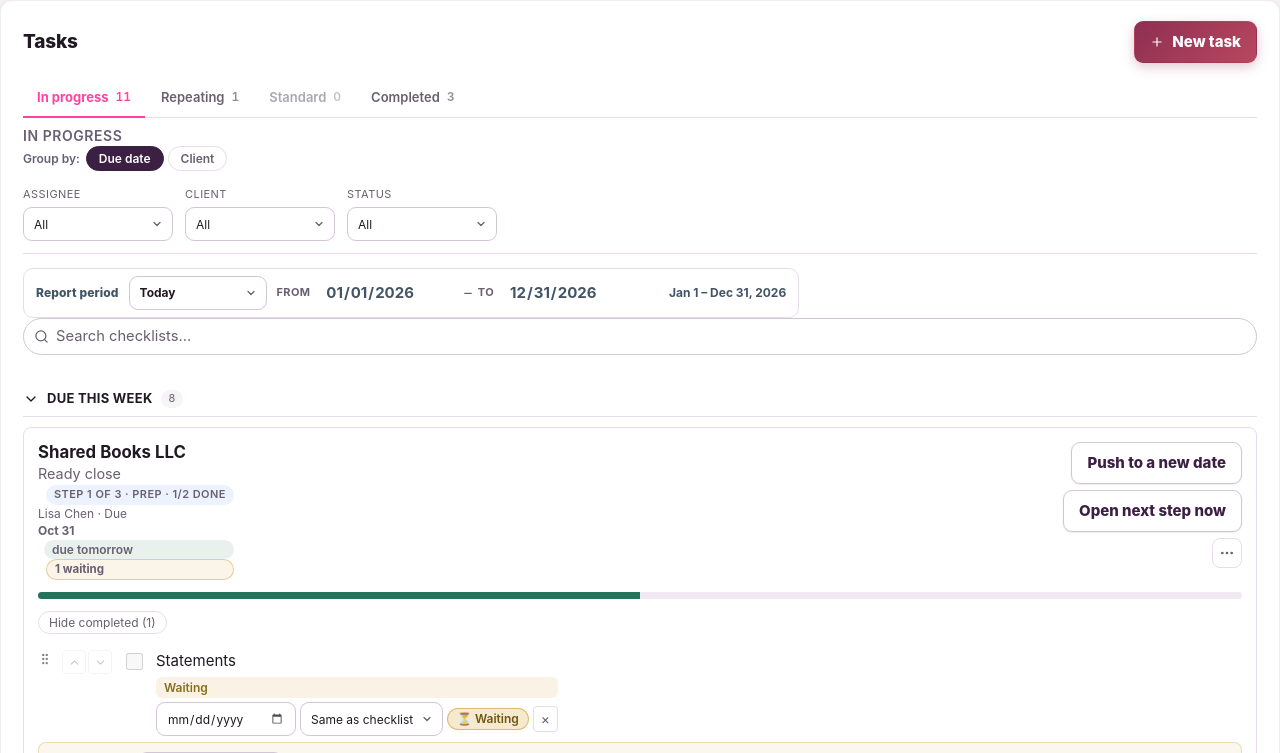
it: Open next step now › shows the server's sentence when it refuses
The image size is (1280, 753).
Click the button "Open next step now" at coordinates (1152, 511), box [1063,490,1242,532]
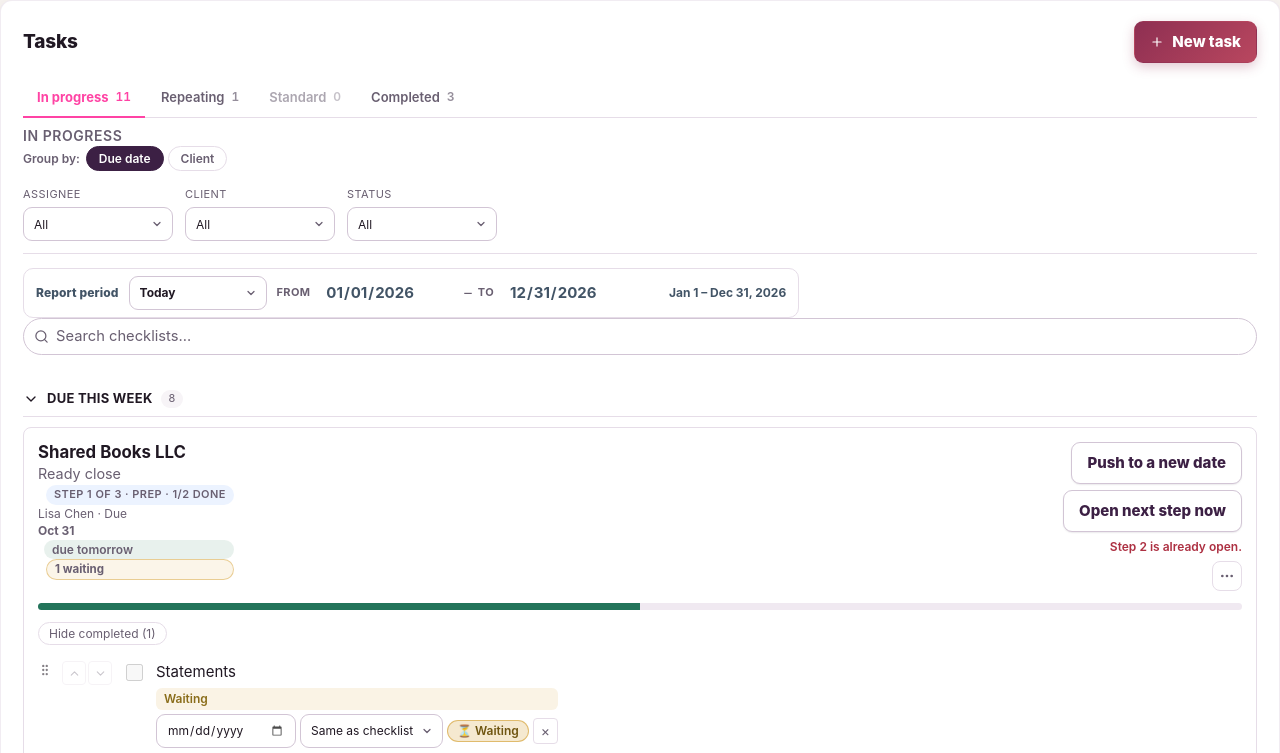
Result: the message reads "Step 2 is already open." at [1110,539,1242,554]
